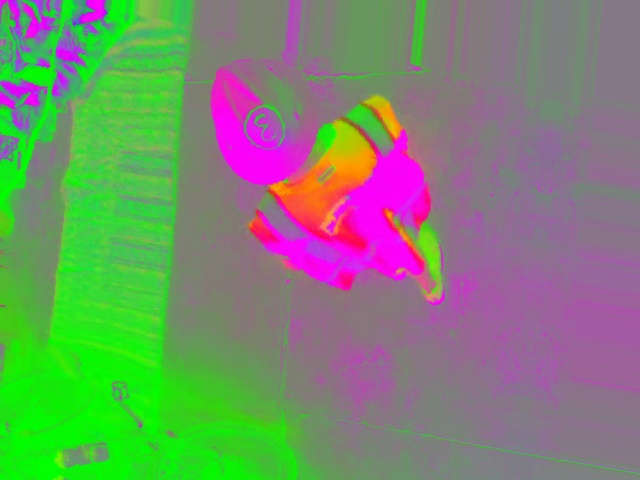three: (241, 101, 285, 150)
